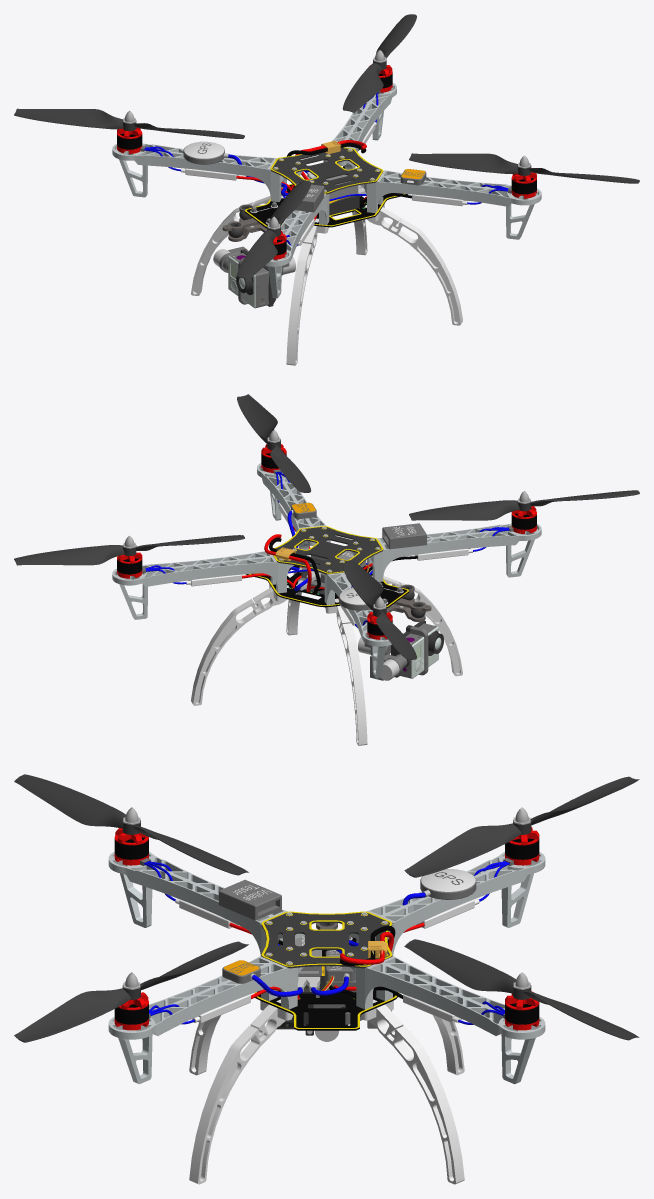
The model's file is DJI_drone.glb.
The picture shows the model from 3 angles, top to bottom: view 1: azimuth 30°, elevation 25°; view 2: azimuth 150°, elevation 25°; view 3: azimuth 270°, elevation 25°; orthographic projection. The views are drawn at different scales.
Parts seen in each view (by area): view 1: 15_Brazo1337_2, 15_Brazo1337, 5_Soporte_superior1336, 17_Hélice1333_3, 17_Hélice1333, 14_Pata1338_2, 17_Hélice1333_1, 17_Hélice1333_2, 14_Pata1338_3, 15_Brazo1337_3, 15_Brazo1337_1, DJI_drone (+7 smaller); view 2: 15_Brazo1337_1, 15_Brazo1337_3, 5_Soporte_superior1336, 17_Hélice1333_2, 17_Hélice1333_1, 14_Pata1338_1, 17_Hélice1333, 17_Hélice1333_3, DJI_drone, 14_Pata1338, 15_Brazo1337_2, 15_Brazo1337 (+6 smaller); view 3: 15_Brazo1337_1, 15_Brazo1337_2, 5_Soporte_superior1336, 15_Brazo1337_3, 15_Brazo1337, 14_Pata1338_1, 14_Pata1338_2, 17_Hélice1333, 17_Hélice1333_1, 17_Hélice1333_3, 17_Hélice1333_2, DJI_drone (+10 smaller).
Part boxes in pixels (bbox=[...]): 15_Brazo1337_2: bbox=[350, 170, 541, 239]; 15_Brazo1337: bbox=[112, 143, 302, 202]; 5_Soporte_superior1336: bbox=[270, 147, 383, 194]; 17_Hélice1333_3: bbox=[409, 153, 639, 183]; 17_Hélice1333: bbox=[14, 108, 244, 138]; 14_Pata1338_2: bbox=[357, 204, 462, 325]; 17_Hélice1333_1: bbox=[342, 14, 416, 112]; 17_Hélice1333_2: bbox=[237, 181, 311, 279]; 14_Pata1338_3: bbox=[286, 218, 328, 365]; 15_Brazo1337_3: bbox=[265, 194, 329, 298]; 15_Brazo1337_1: bbox=[323, 83, 396, 169]; DJI_drone: bbox=[144, 92, 508, 245]; 15_Brazo1337_1: bbox=[112, 551, 294, 619]; 15_Brazo1337_3: bbox=[351, 523, 541, 581]; 5_Soporte_superior1336: bbox=[273, 526, 383, 574]; 17_Hélice1333_2: bbox=[409, 490, 639, 520]; 17_Hélice1333_1: bbox=[14, 535, 244, 565]; 14_Pata1338_1: bbox=[191, 584, 296, 705]; 17_Hélice1333: bbox=[342, 561, 416, 659]; 17_Hélice1333_3: bbox=[237, 394, 311, 492]; DJI_drone: bbox=[145, 471, 509, 627]; 14_Pata1338: bbox=[325, 598, 367, 745]; 15_Brazo1337_2: bbox=[257, 463, 330, 549]; 15_Brazo1337: bbox=[324, 572, 391, 678]; 15_Brazo1337_1: bbox=[350, 956, 545, 1084]; 15_Brazo1337_2: bbox=[108, 956, 303, 1084]; 5_Soporte_superior1336: bbox=[261, 911, 392, 968]; 15_Brazo1337_3: bbox=[108, 852, 304, 956]; 15_Brazo1337: bbox=[349, 852, 545, 956]; 14_Pata1338_1: bbox=[360, 999, 464, 1184]; 14_Pata1338_2: bbox=[189, 999, 293, 1184]; 17_Hélice1333: bbox=[404, 776, 639, 877]; 17_Hélice1333_1: bbox=[404, 939, 639, 1040]; 17_Hélice1333_3: bbox=[14, 941, 248, 1042]; 17_Hélice1333_2: bbox=[14, 774, 248, 875]; DJI_drone: bbox=[144, 861, 509, 1024].
Size of the model in its own units: 511 by 213 by 510.
